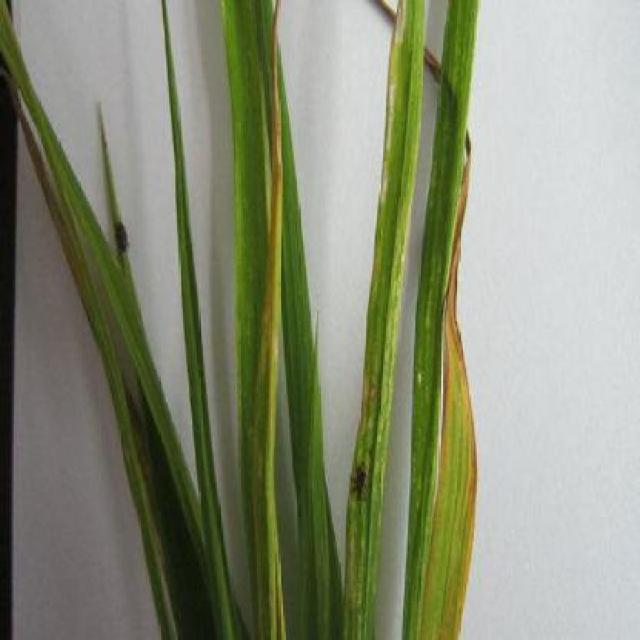rice-bug: (351, 452, 369, 498), (115, 218, 128, 252)
